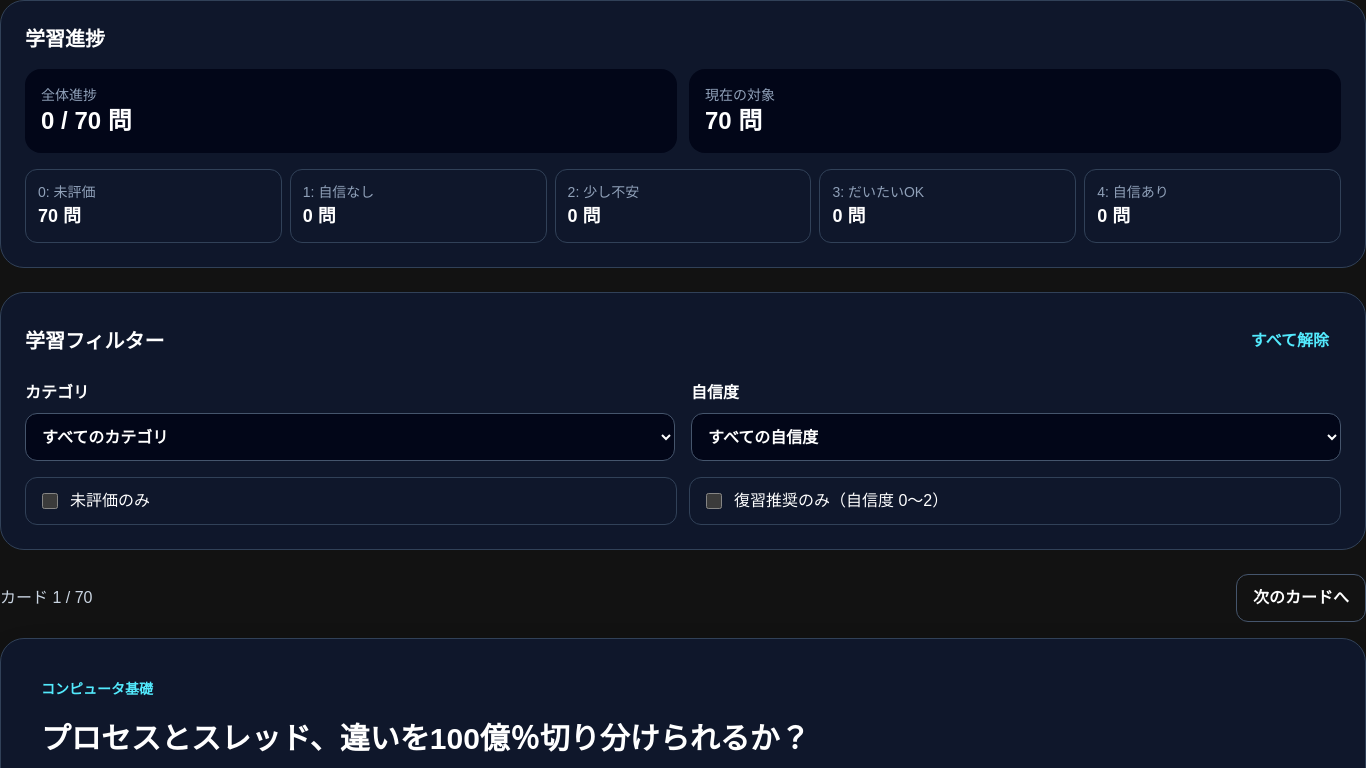
Test: FlashCardStudy › combines filters and provides a clear action for an empty result
This screenshot has width=1366, height=768.
Select "ネットワーク" in the dropdown labelled "カテゴリ" at (350, 437), box [25,413,675,461]
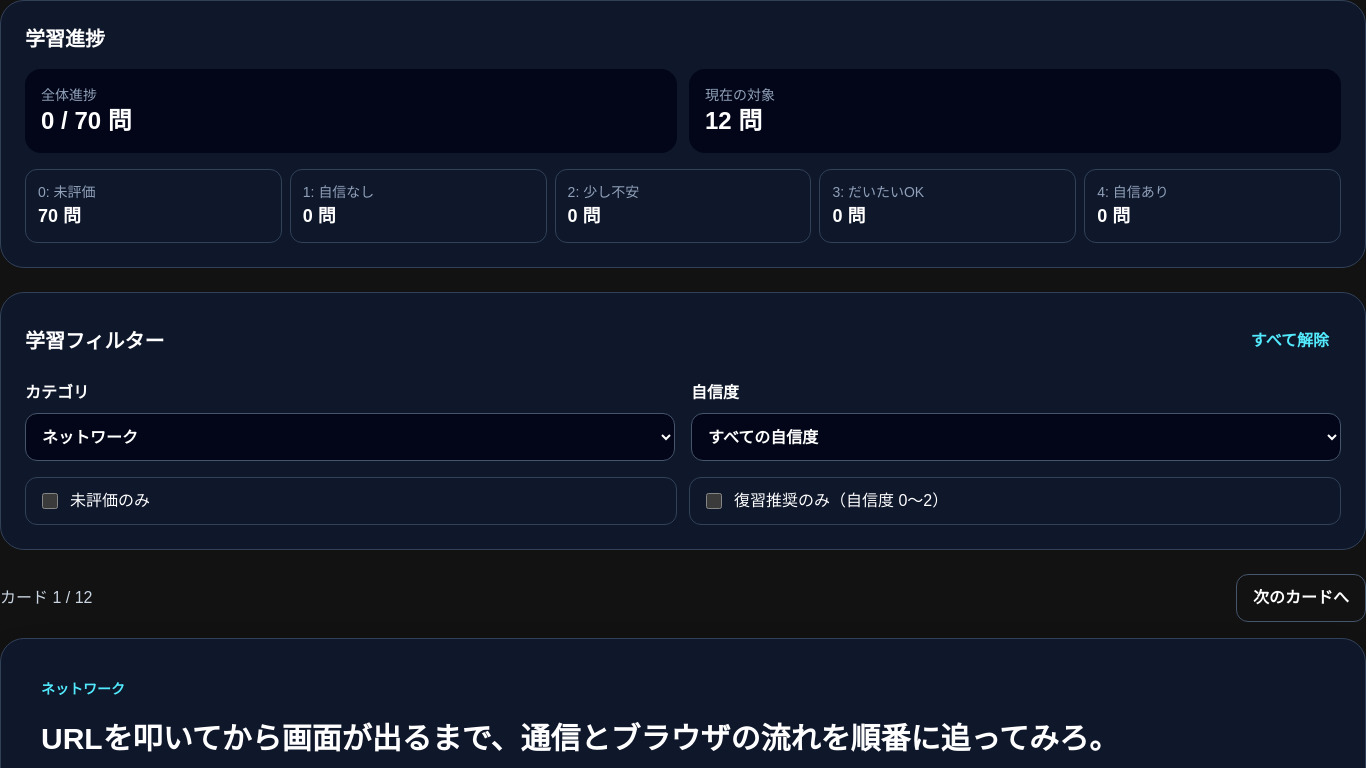
Select "4: 自信あり" in the dropdown named "自信度フィルター" at (1016, 437), box [691,413,1341,461]
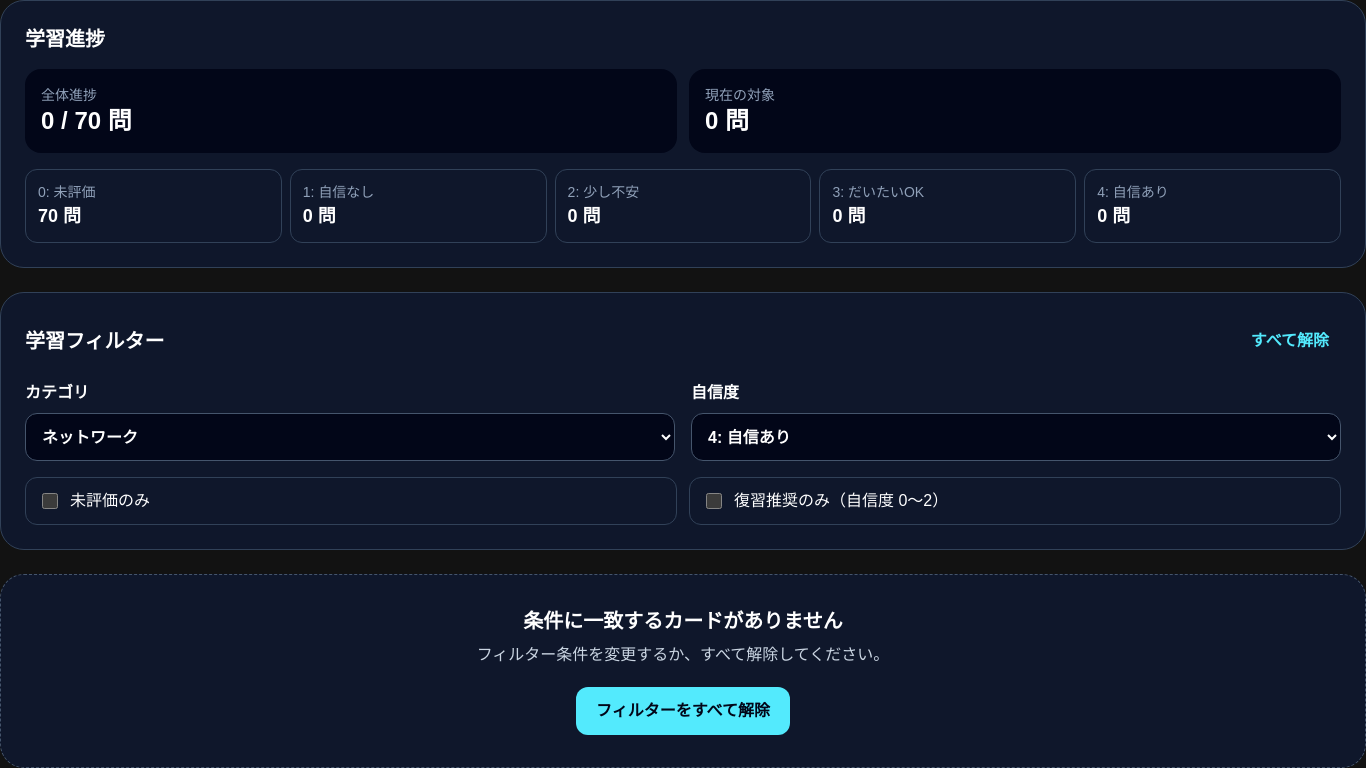
Result: the heading "条件に一致するカードがありません" is shown at [523,610,843,632]
Click the button "フィルターをすべて解除" at (683, 711), box [576,687,790,735]
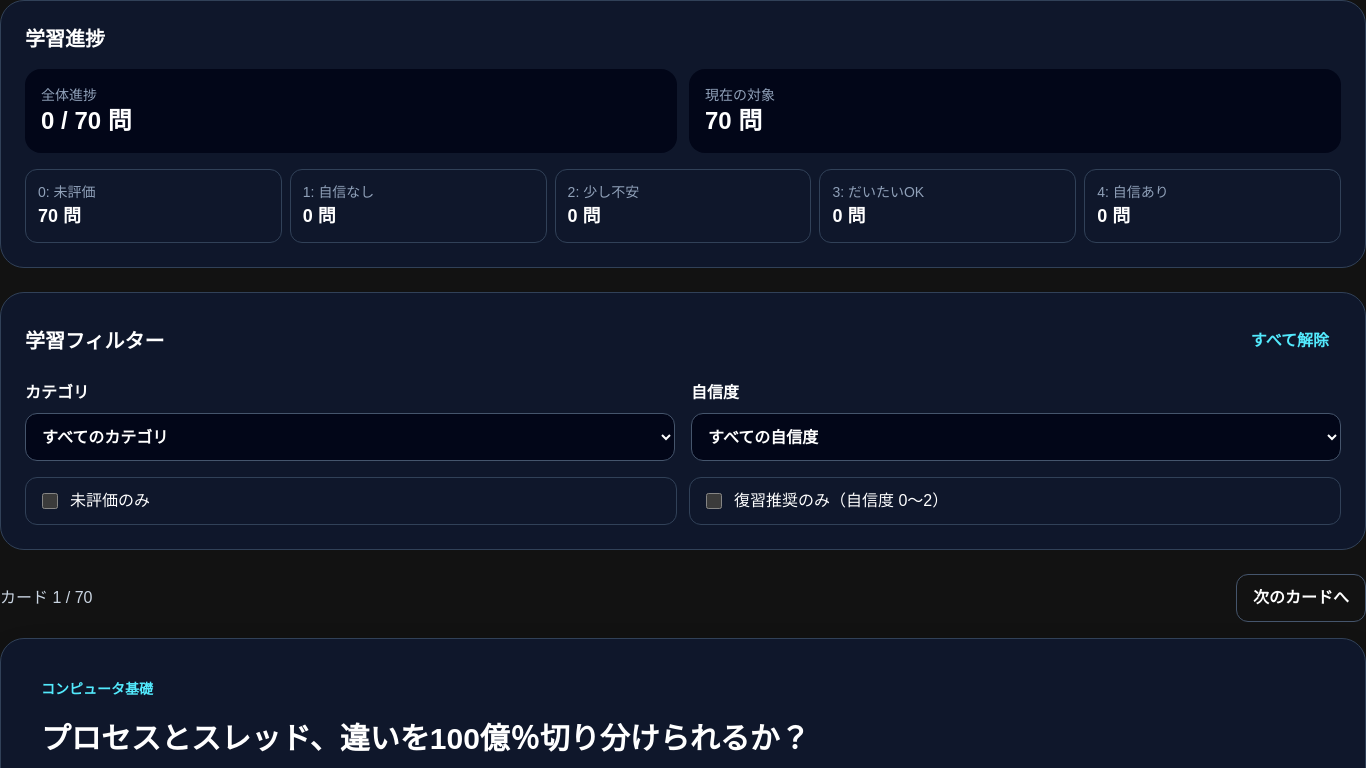
Result: the text "カード 1 / 70" is shown at [0,586,92,610]
